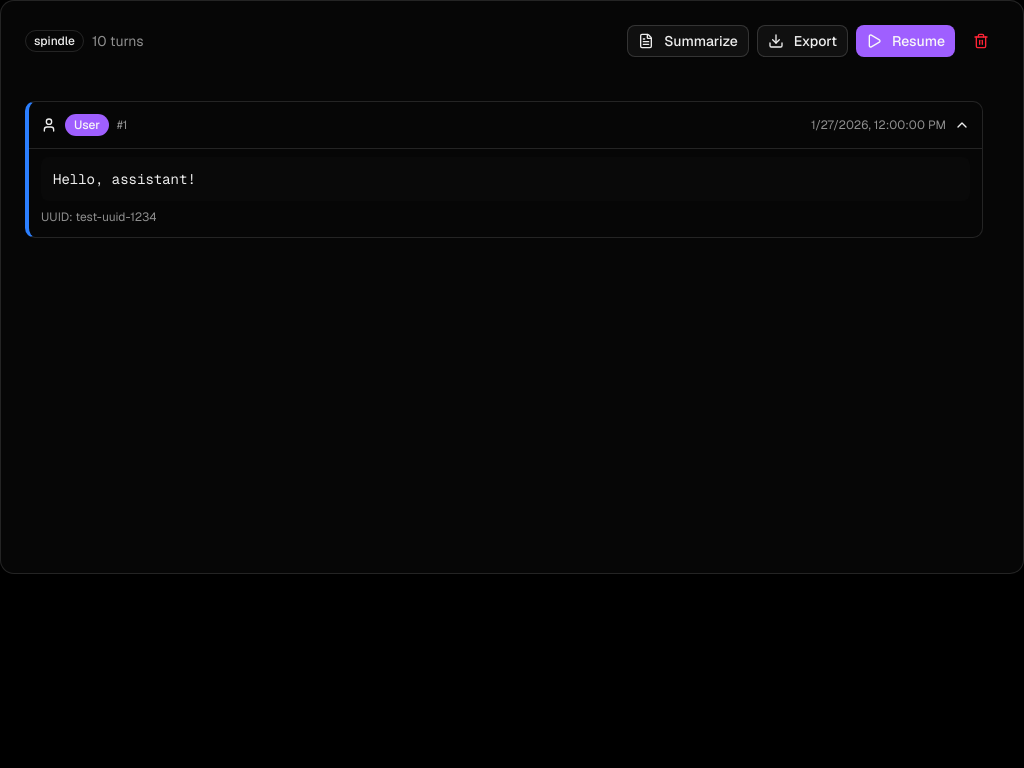
it: SessionViewer › action buttons › should cancel delete on cancel click
This screenshot has width=1024, height=768.
Click the 4th button. click: point(981, 41)
box: [963,25,999,57]
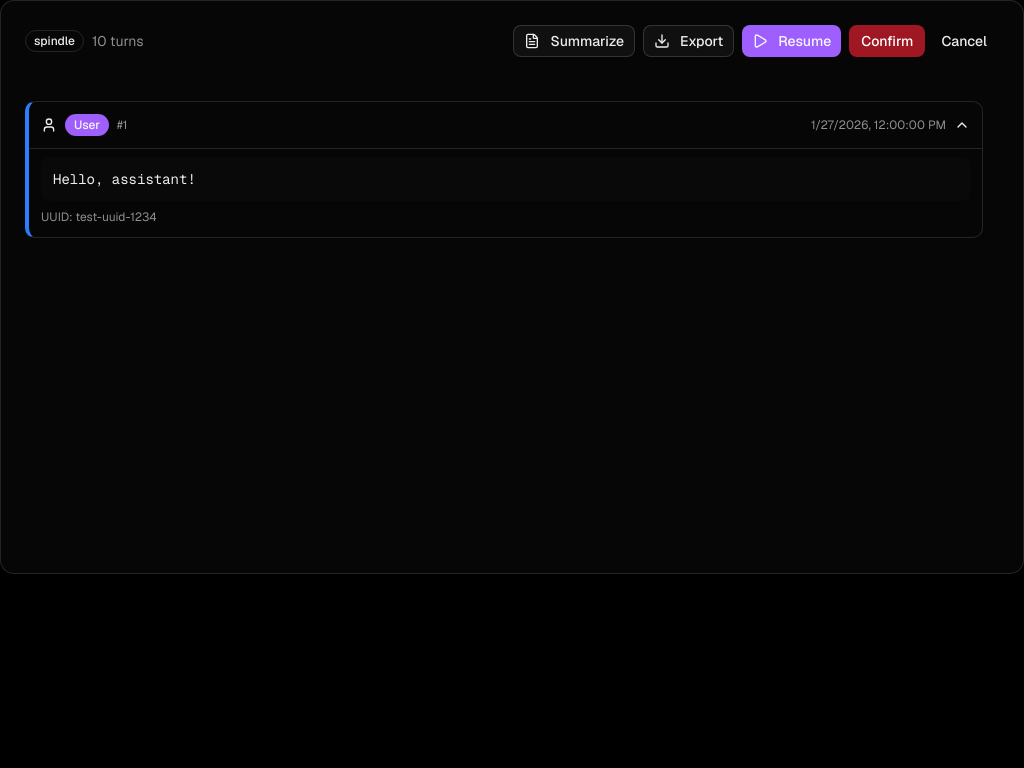
// Then cancel
Click the button "Cancel". click: point(964, 41)
box: [929,25,999,57]
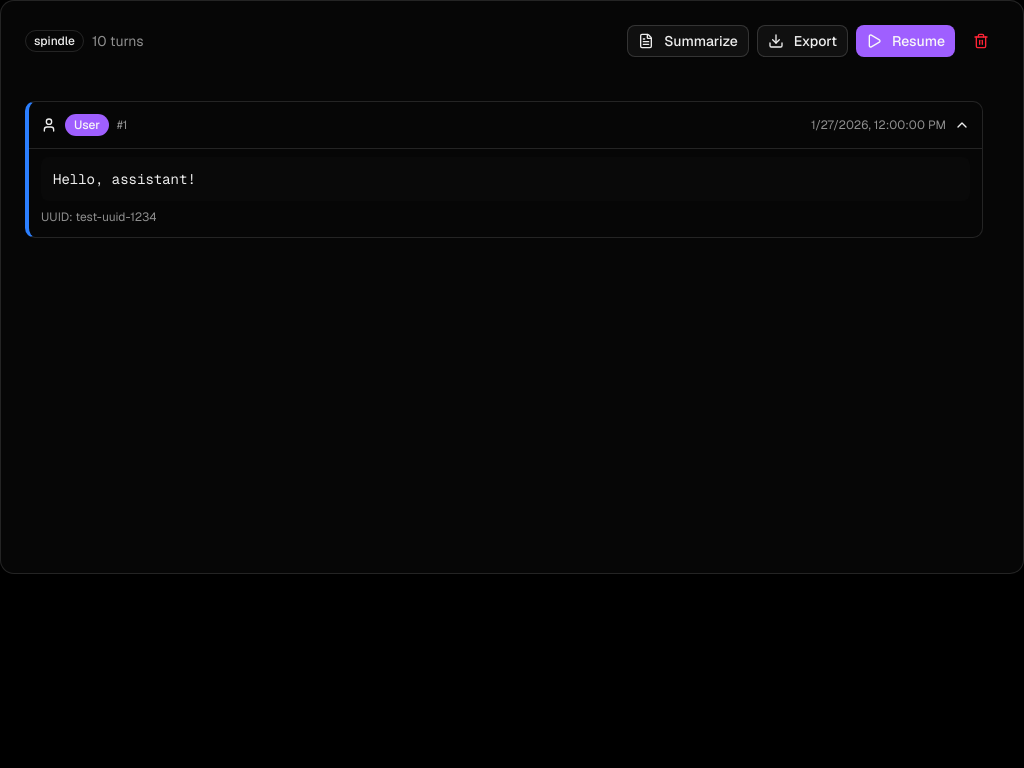
Check: the button "Confirm" is gone
